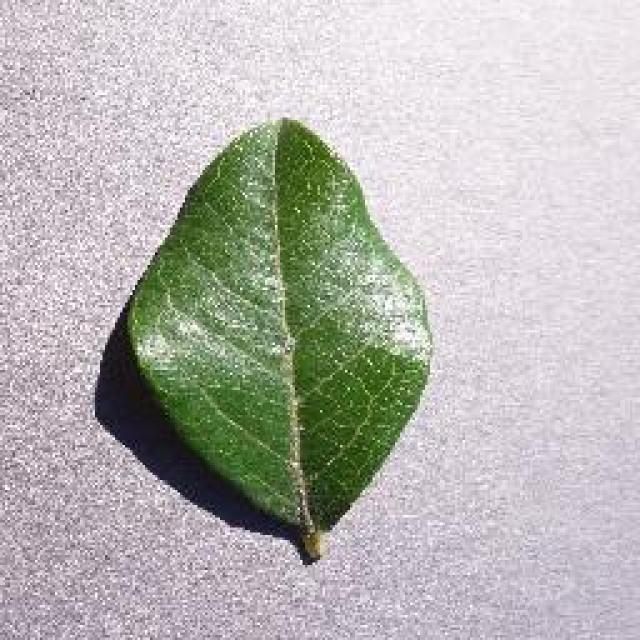Blu_healthy: (132, 170, 432, 501)
